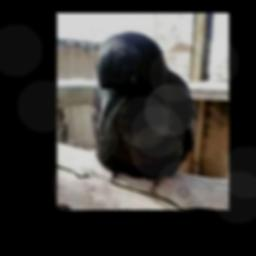Crow: (91, 32, 198, 195)
